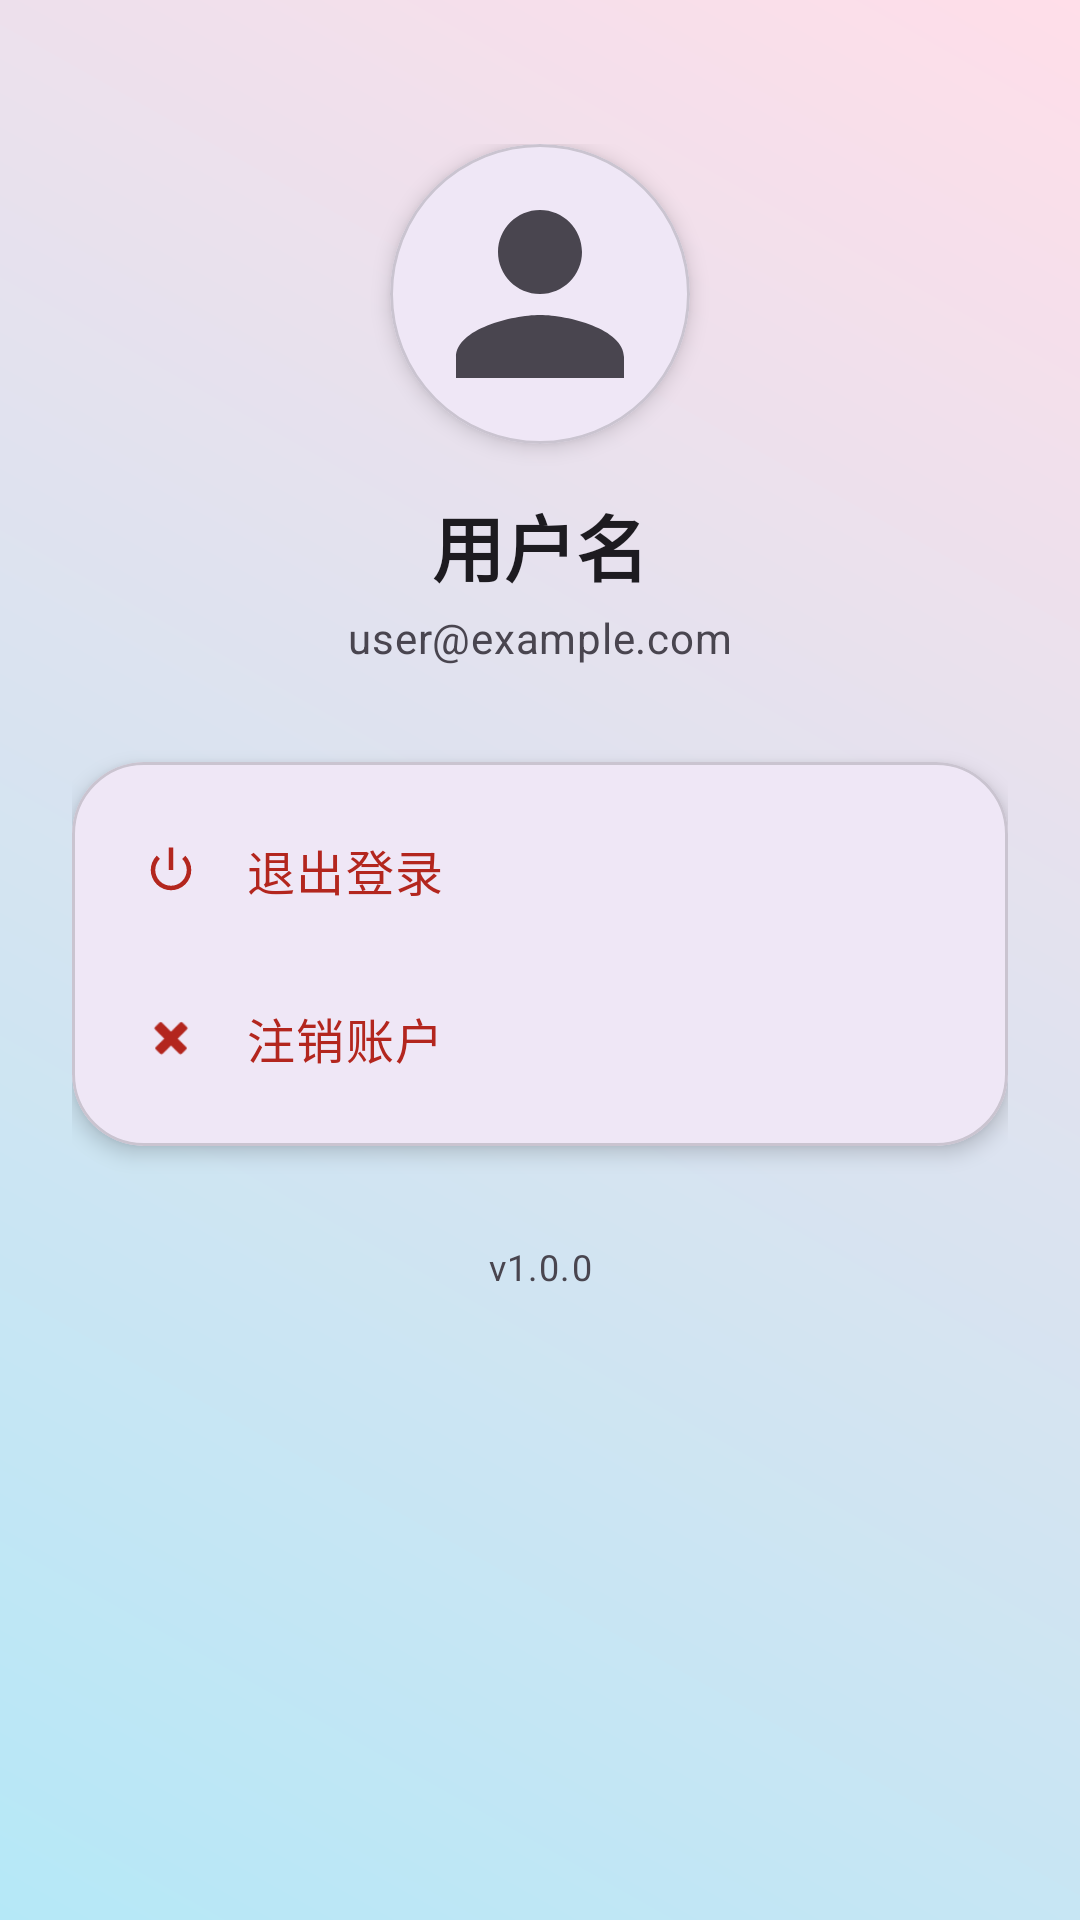

Icons on this 1080px×1920px Android screen, each with the point to tap as (x,y):
用户头像: (540,294)
